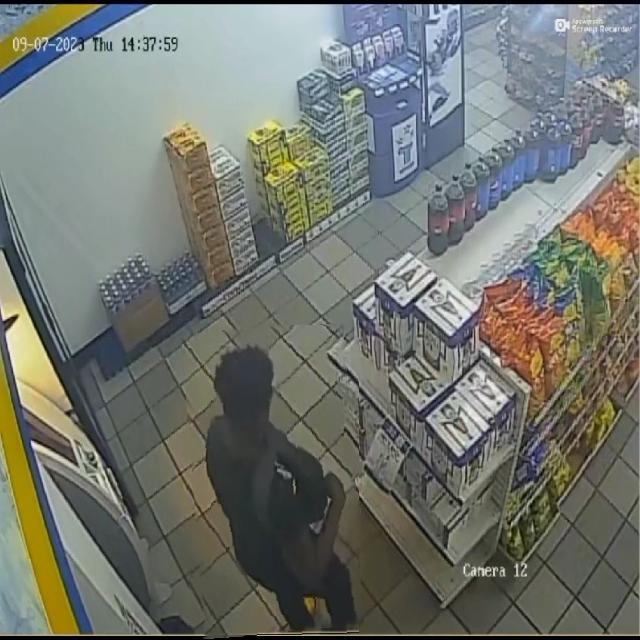Normal: (187, 325, 359, 637)
